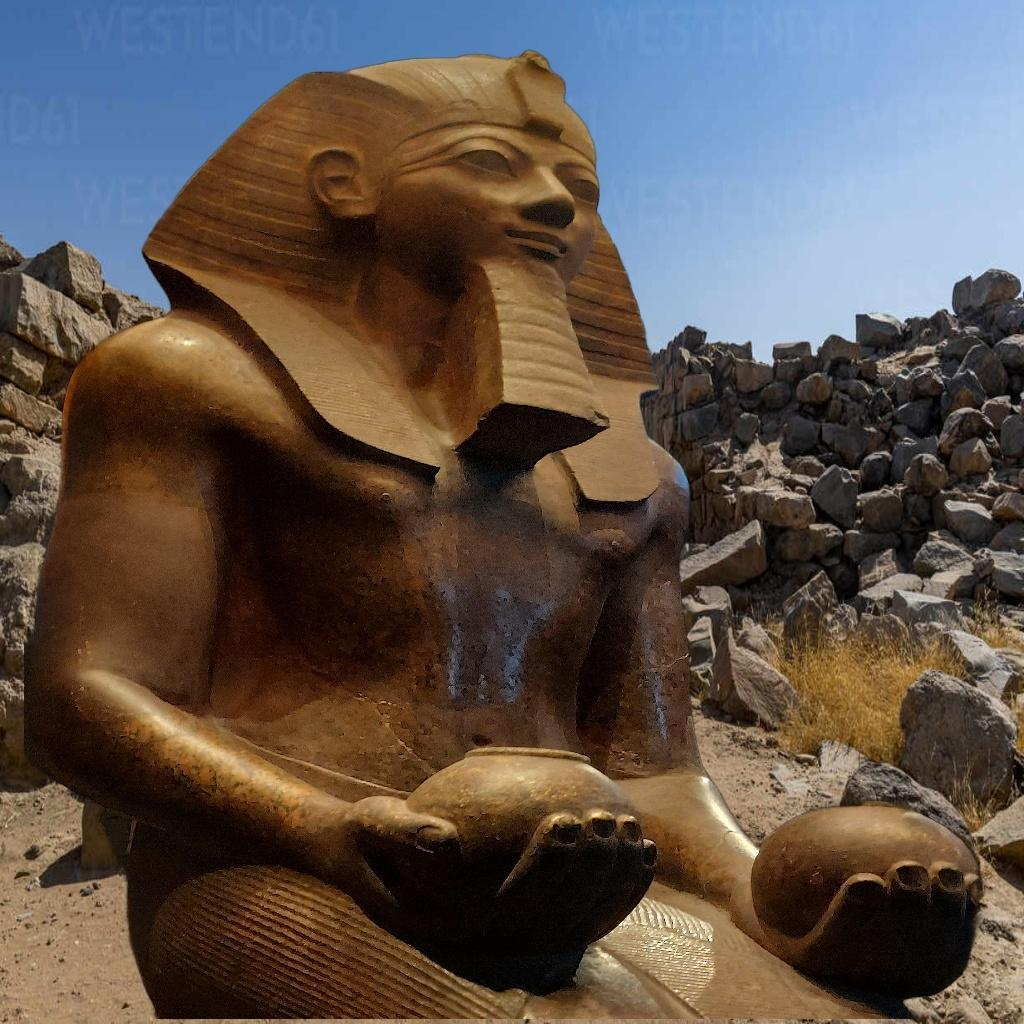kneeling statue of queen hatshibsut: (24, 47, 1013, 1019)
